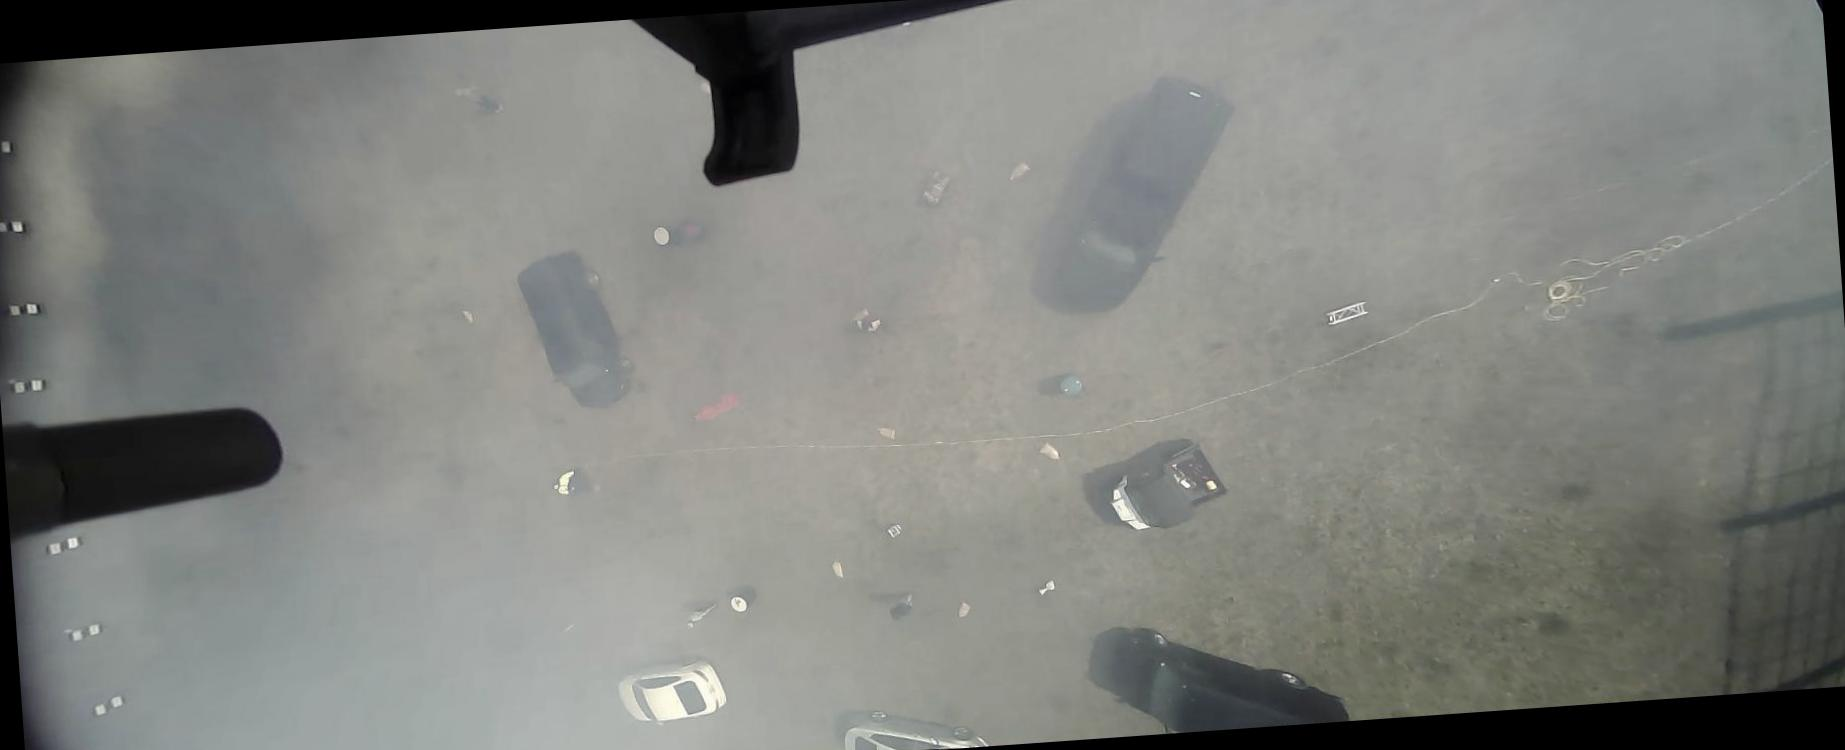vehicle: (1031, 69, 1248, 316), (1101, 613, 1348, 737), (514, 245, 635, 412), (1098, 442, 1230, 535), (615, 656, 726, 730), (838, 702, 991, 749)
